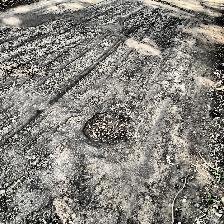pothole: (81, 110, 133, 144), (10, 62, 32, 76)
